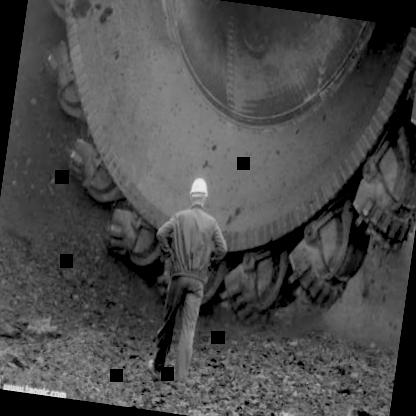helmet: (183, 172, 213, 213)
